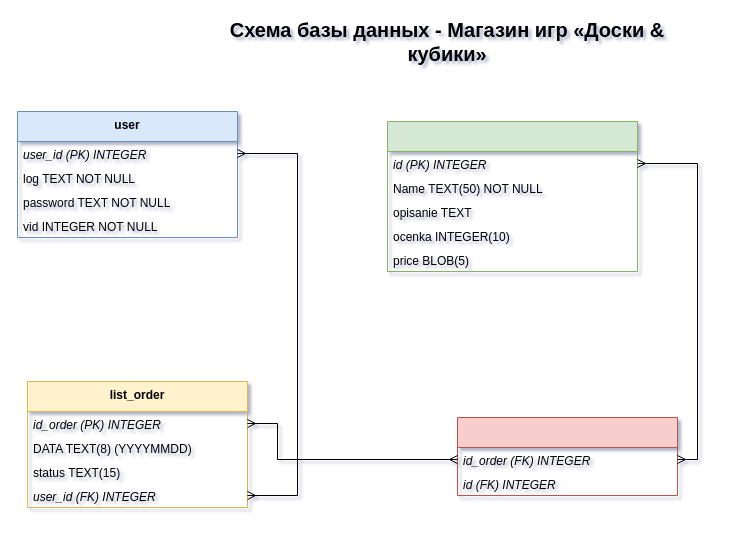
Some shapes in this 730 by 533 pixel diagram are drawn without their labels. Each missing label, with the box of its shape:
Igri: (386, 120, 638, 272)
korzina: (456, 416, 678, 496)
